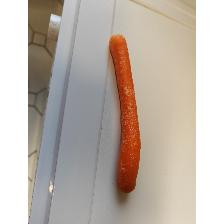Karotte: (108, 34, 146, 194)
